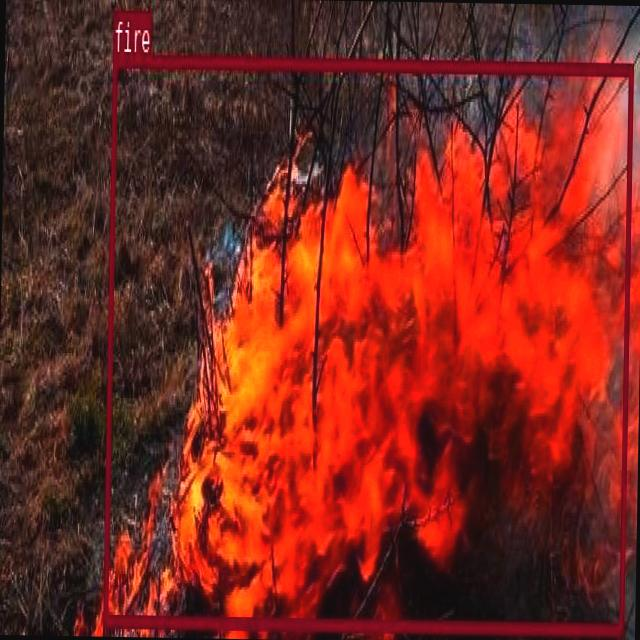fire: (102, 54, 632, 633)
